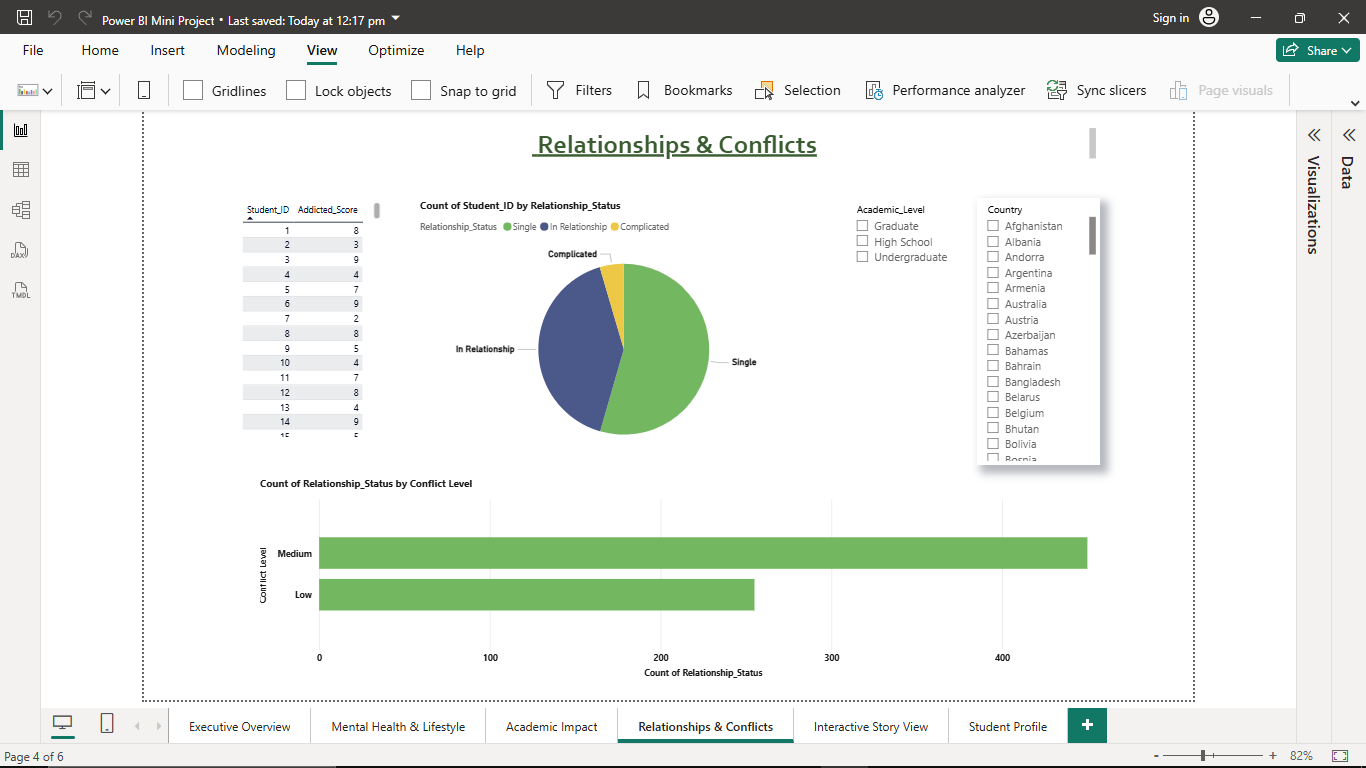

The dashboard page shown, as its layout file describes it:
{"tool":"powerbi","page":{"name":" Relationships & Conflicts","canvas":[1280,720],"ordinal":3},"visuals":[{"type":"tableEx","fields":{"Values":["Platform Details.Student_ID","Student Details.Addicted_Score"]},"box":[114.3,107.1,178.6,295.7],"z":0},{"type":"barChart","fields":{"Category":["Student Details.Conflict Level"],"Y":["CountNonNull(Student Details.Relationship_Status)"]},"box":[136.8,446.4,1029.6,252],"z":1000},{"type":"pieChart","fields":{"Y":["CountNonNull(Platform Details.Student_ID)"],"Category":["Student Details.Relationship_Status"]},"box":[331.4,107.1,507.1,325.7],"z":2000},{"type":"textbox","box":[136.8,17.3,1029.6,47.5],"z":3000},{"type":"slicer","fields":{"Values":["Student Details.Country"]},"box":[1017.1,107.1,150,325.7],"z":4000},{"type":"slicer","fields":{"Values":["Student Details.Academic_Level"]},"box":[857.1,107.1,160,101.4],"z":5000}]}

Visuals, with their boxes on the page's 1280x720 design canvas (x1, y1, x2, y2). These are canvas units, not pixel positions in the 1366x768 screenshot, which may show the page scaled, cropped or inside an application window:
tableEx - Platform Details.Student_ID x Student Details.Addicted_Score: (114,107,293,403)
barChart - Student Details.Conflict Level x CountNonNull(Student Details.Relationship_Status): (137,446,1166,698)
pieChart - CountNonNull(Platform Details.Student_ID) x Student Details.Relationship_Status: (331,107,838,433)
textbox: (137,17,1166,65)
slicer - Student Details.Country: (1017,107,1167,433)
slicer - Student Details.Academic_Level: (857,107,1017,208)
